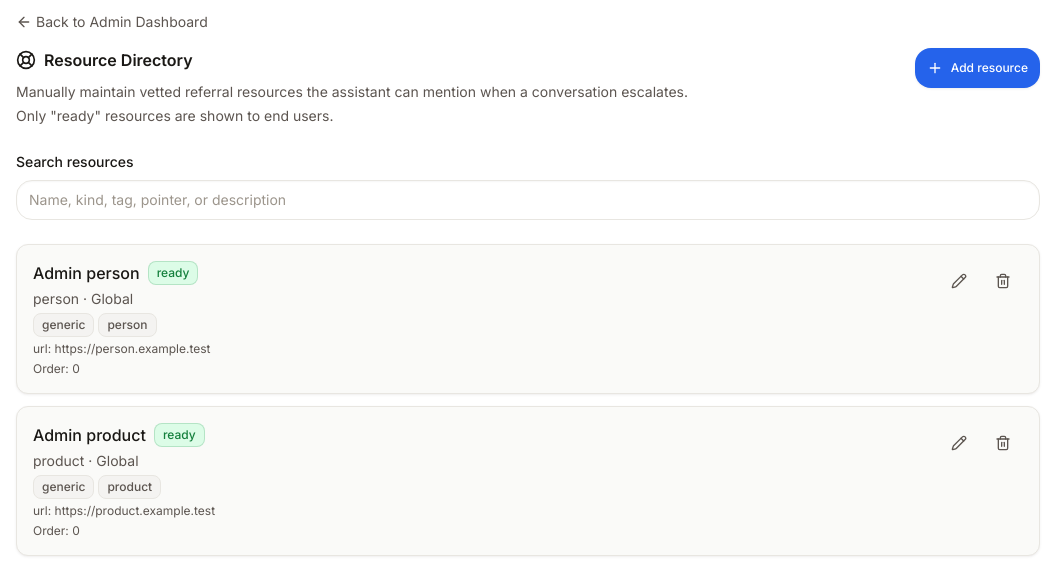
it: AdminResourcesDirectory › searches generic resource fields in the Admin product flow
Expected: the text "Admin person" is shown, [33, 261, 140, 285]
Expected: the text "Admin product" is shown, [33, 423, 146, 447]
Type "product.example.test" into the field labelled "Search resources" at (528, 200), box [29, 190, 1027, 210]
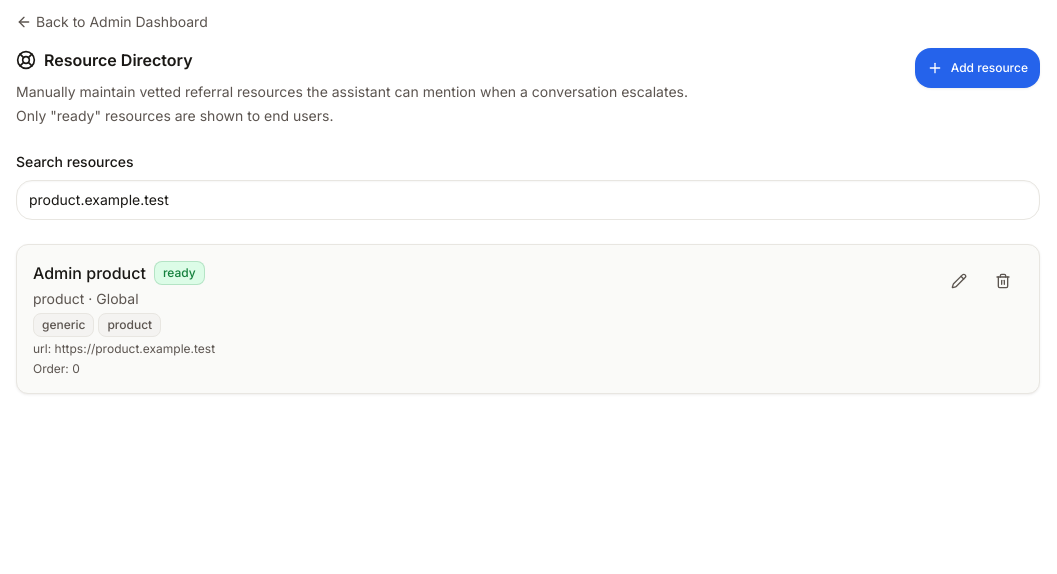
Expected: the text "Admin product" is shown, [33, 261, 146, 285]
Expected: the text "Admin person" is gone
